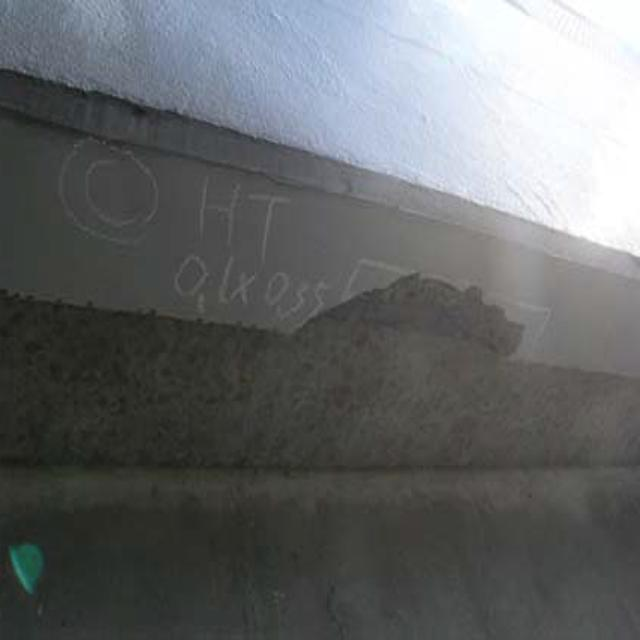spalling: (304, 263, 552, 378)
